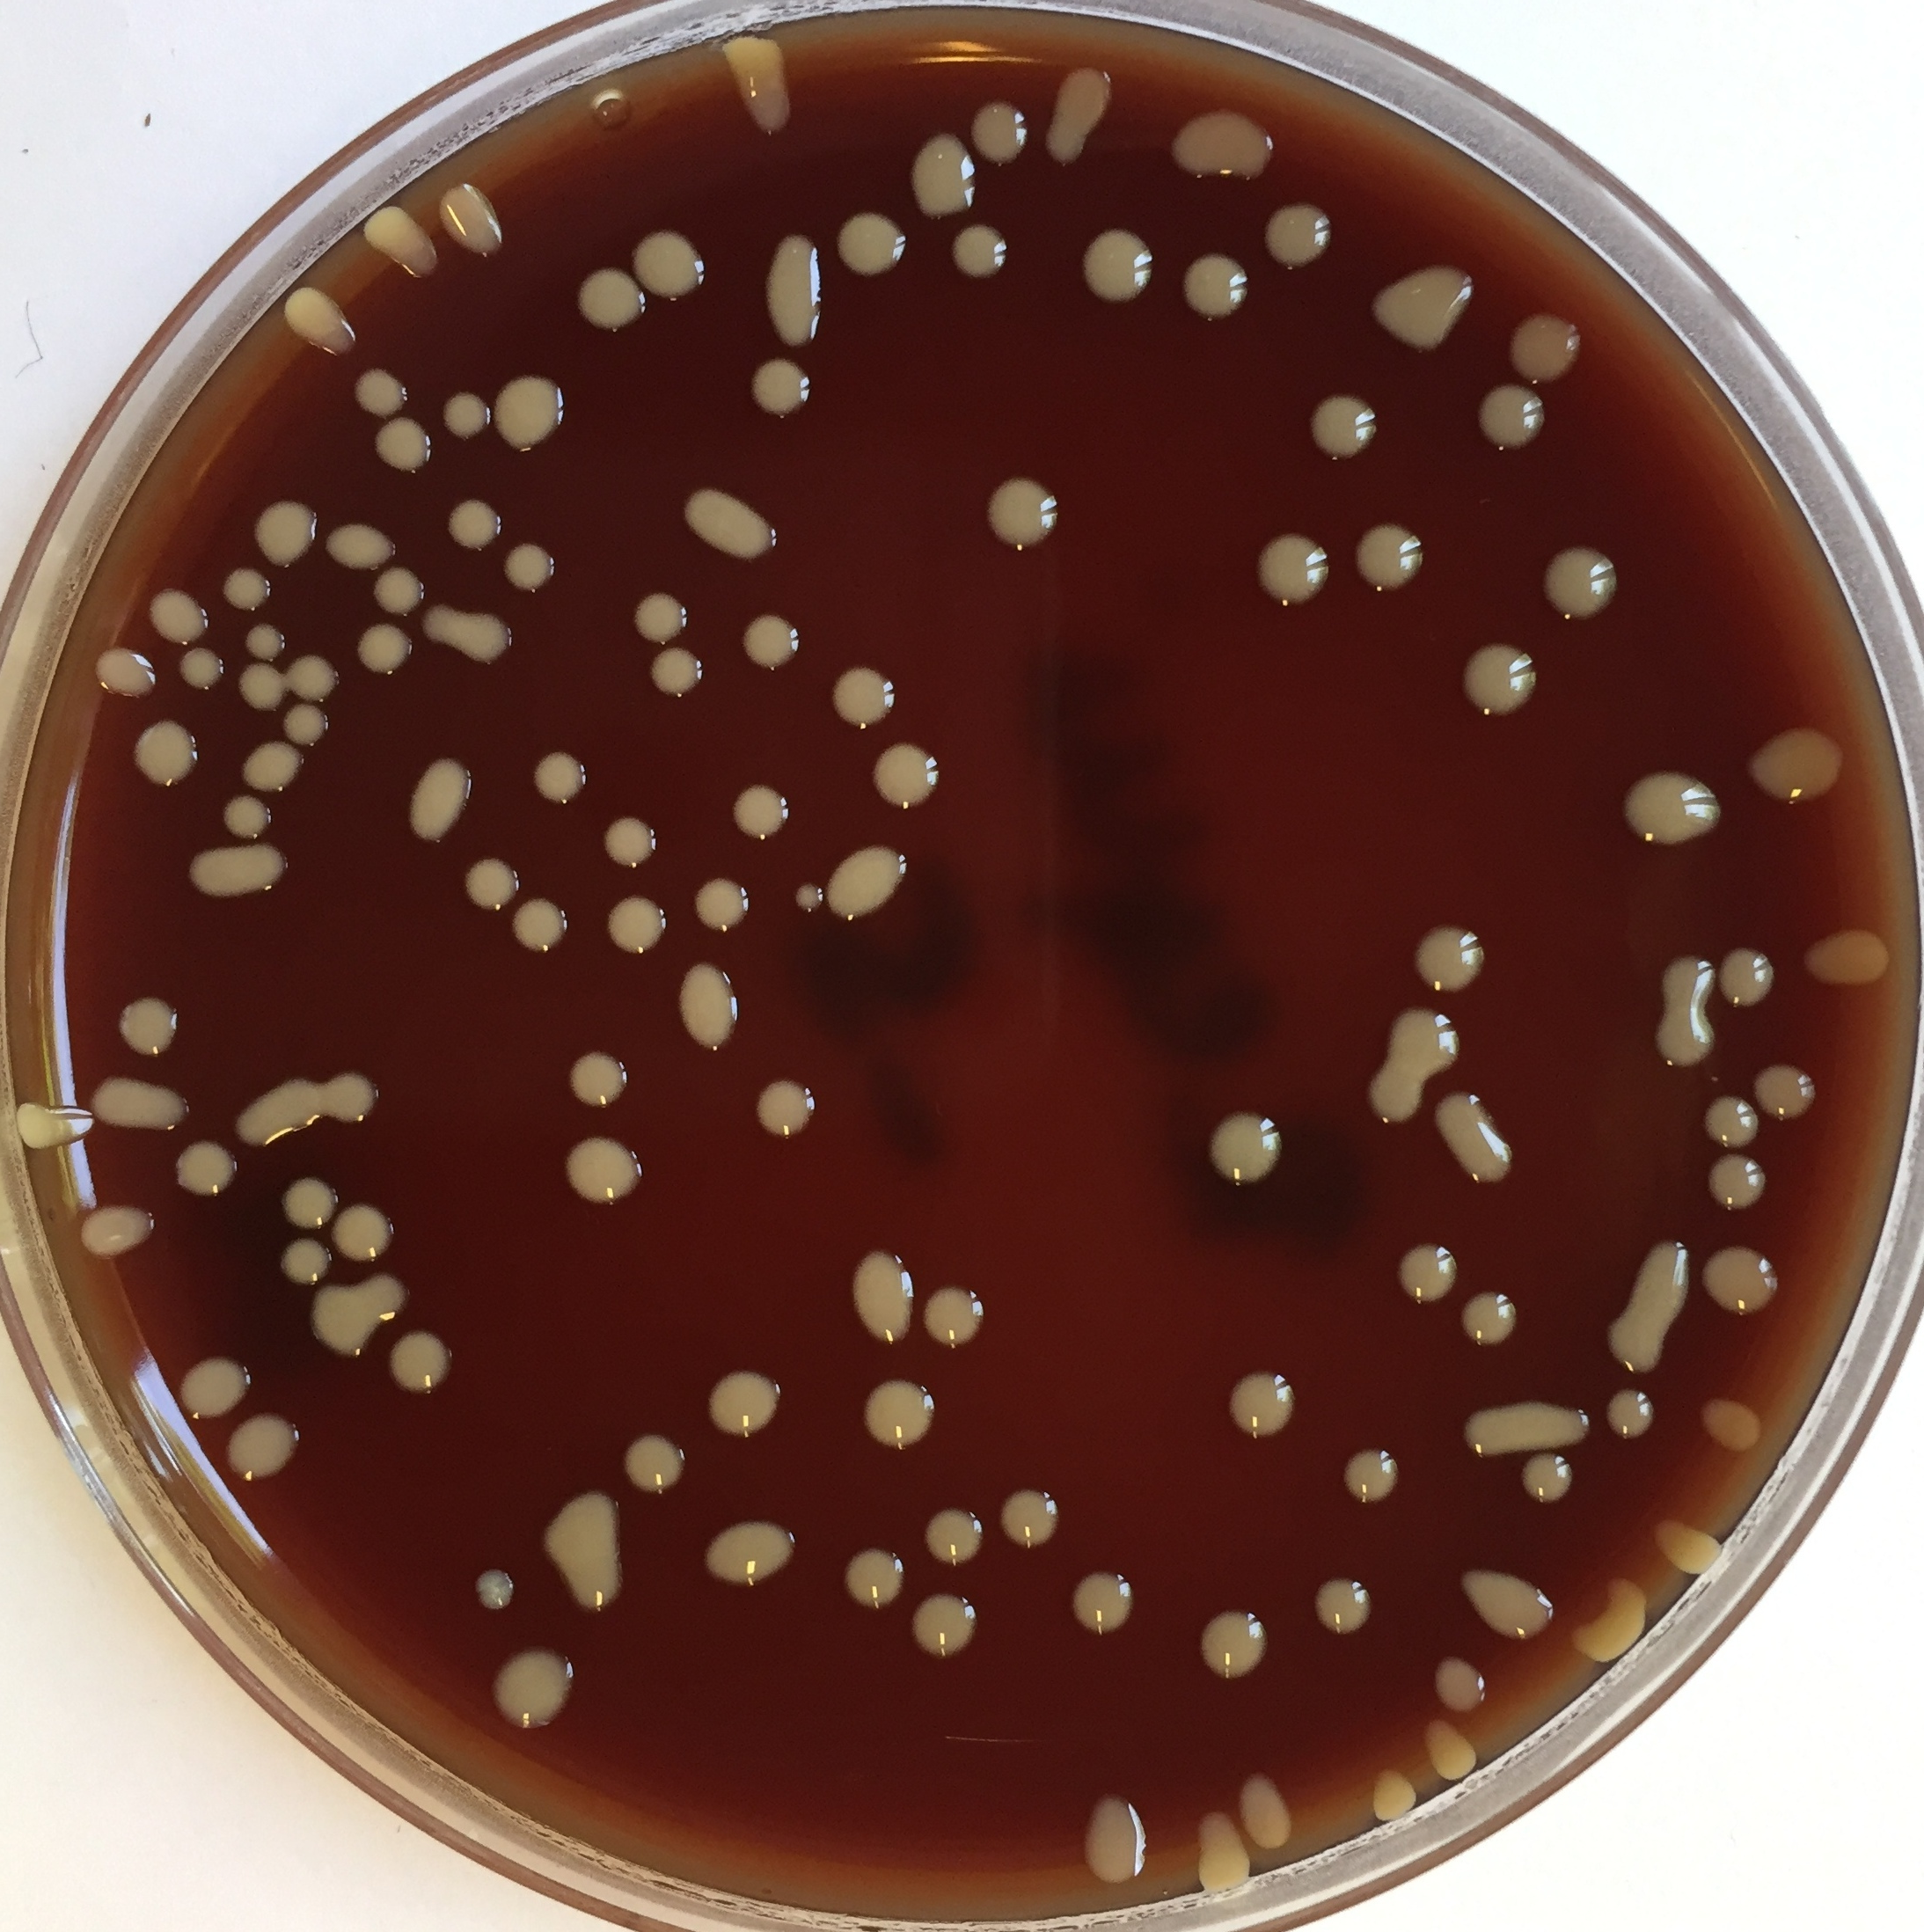sp19: (539, 1477, 634, 1629), (1364, 247, 1482, 365), (1602, 1230, 1686, 1378), (1607, 754, 1728, 853), (479, 1643, 583, 1752), (670, 467, 784, 566), (715, 30, 809, 148), (1443, 1549, 1554, 1648), (1069, 1772, 1156, 1897), (696, 1500, 805, 1599), (957, 467, 1075, 557), (1457, 375, 1556, 481), (1438, 1079, 1528, 1193), (844, 1237, 923, 1364), (1170, 95, 1284, 180), (555, 1126, 655, 1222), (740, 1058, 832, 1162), (1700, 1230, 1801, 1324), (759, 224, 832, 353), (400, 740, 481, 855), (907, 120, 994, 227), (1045, 51, 1119, 175), (1454, 636, 1550, 730), (1561, 1571, 1656, 1664), (492, 363, 576, 465), (1346, 499, 1429, 603), (176, 841, 292, 913), (825, 836, 914, 929), (76, 1072, 197, 1141), (1080, 213, 1165, 312), (1258, 518, 1336, 626), (358, 199, 446, 293), (1186, 1789, 1254, 1907), (95, 984, 197, 1063), (1450, 1391, 1587, 1449), (173, 1341, 259, 1433), (442, 178, 525, 273), (625, 219, 715, 305), (1216, 1370, 1311, 1449), (1809, 908, 1896, 994), (1260, 183, 1334, 282), (830, 203, 914, 289), (1760, 725, 1845, 811), (76, 1192, 174, 1266), (1404, 908, 1492, 991), (421, 598, 514, 675), (862, 735, 946, 820), (1306, 377, 1383, 469), (1536, 541, 1630, 617), (849, 1380, 943, 1456), (618, 1416, 696, 1505), (382, 1326, 462, 1412), (1179, 240, 1253, 331), (282, 271, 356, 361), (1640, 1505, 1746, 1567), (1498, 312, 1596, 377), (943, 213, 1022, 294), (708, 1361, 779, 1451), (1062, 1564, 1140, 1645), (1408, 1713, 1487, 1791), (164, 1132, 241, 1211), (904, 1594, 987, 1668), (913, 1280, 995, 1354), (675, 959, 740, 1052), (751, 351, 825, 432), (1205, 1098, 1272, 1186), (738, 601, 812, 680), (129, 712, 201, 793), (830, 642, 893, 733), (227, 1424, 303, 1500), (1390, 1236, 1462, 1315), (555, 1035, 627, 1114), (1596, 1386, 1672, 1460), (1200, 1601, 1267, 1683), (839, 1539, 911, 1615), (580, 252, 648, 331), (308, 1267, 363, 1366), (918, 1500, 990, 1574), (1339, 1435, 1410, 1511), (1239, 1759, 1297, 1851), (731, 772, 798, 850), (1311, 1569, 1383, 1639), (1003, 1481, 1071, 1555), (1360, 1757, 1424, 1837), (1700, 1156, 1781, 1216), (372, 407, 437, 481), (1702, 1386, 1765, 1461), (518, 739, 587, 807), (248, 501, 321, 566), (141, 573, 213, 638), (1374, 998, 1457, 1054), (641, 636, 710, 703), (1360, 1058, 1427, 1126), (317, 1058, 382, 1126), (1751, 1052, 1824, 1114), (1459, 1285, 1526, 1350), (1513, 1449, 1580, 1514), (345, 353, 414, 416), (86, 636, 155, 700), (1413, 1655, 1492, 1710), (324, 511, 403, 566), (1697, 1079, 1757, 1151), (685, 873, 759, 929), (354, 617, 418, 682), (439, 490, 506, 552), (601, 895, 668, 957), (1647, 1008, 1707, 1077), (333, 1197, 402, 1257), (229, 1088, 287, 1158), (287, 1167, 352, 1229), (511, 895, 573, 961), (14, 1088, 65, 1163), (599, 807, 659, 871), (470, 1546, 516, 1629), (462, 850, 520, 915), (240, 740, 307, 797), (437, 381, 492, 450), (363, 1267, 418, 1336), (215, 795, 291, 844), (625, 591, 699, 640), (1647, 957, 1716, 1010), (1725, 940, 1776, 1010), (268, 1065, 322, 1128), (978, 85, 1027, 153), (507, 534, 557, 598), (211, 561, 271, 612), (236, 654, 287, 714), (176, 643, 233, 696), (280, 700, 337, 749), (277, 1236, 326, 1290), (285, 652, 338, 702), (372, 569, 428, 608), (243, 615, 292, 658), (791, 873, 825, 920)
